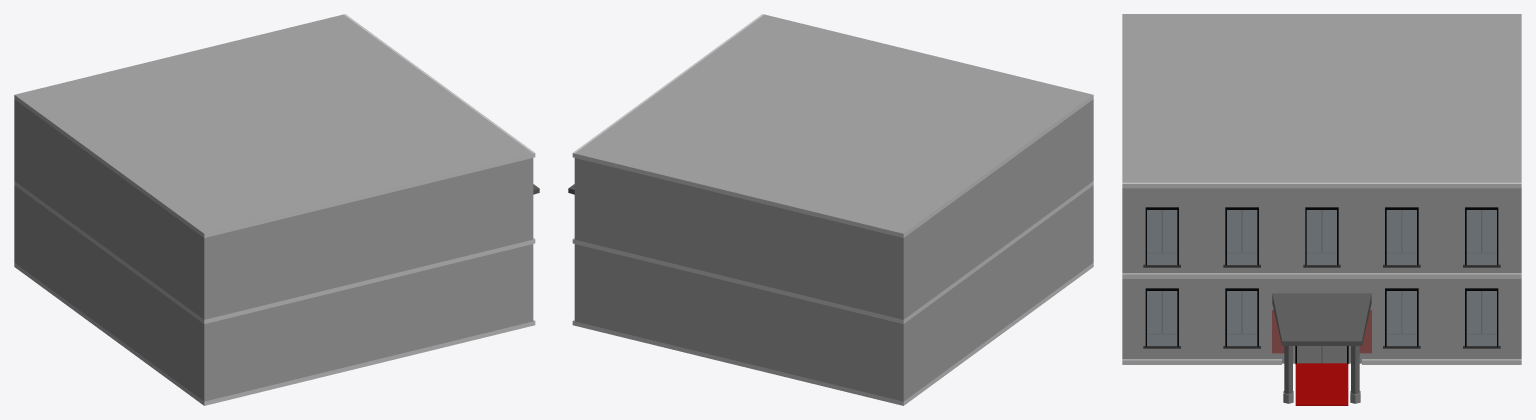
Rendered from Building_18.fbx.
3 renders of one model, left to right at view 1: azimuth 30°, elevation 25°; view 2: azimuth 150°, elevation 25°; view 3: azimuth 270°, elevation 25°, orthographic. The views are drawn at different scales.
Parts seen in each view (by area): view 1: polySurface78; view 2: polySurface78; view 3: polySurface78.
Boxes of the visible parts, left/top/right/bottom form: polySurface78: left=14, top=14, right=539, bottom=405; polySurface78: left=568, top=14, right=1093, bottom=405; polySurface78: left=1122, top=14, right=1521, bottom=405.
Size of the model in its own units: 25 by 10 by 20.
